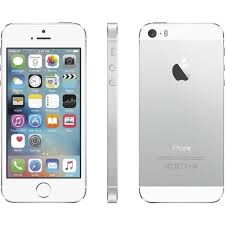iphone: (133, 20, 225, 207), (1, 19, 91, 206)
iphone5: (131, 18, 223, 205), (1, 20, 91, 207)
